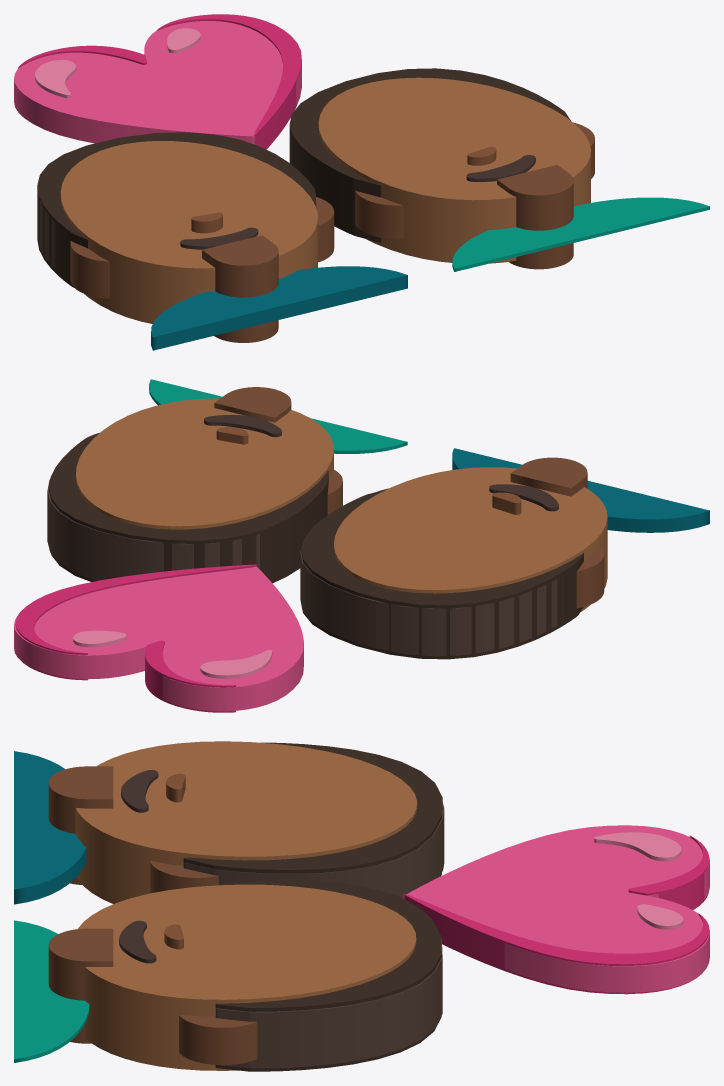
File: emoji_u1f468_1f3fe_200d_2764_200d_1f468_1f3fe.glb
3 views of the same model, one above another, from view 1: azimuth 30°, elevation 25°; view 2: azimuth 150°, elevation 25°; view 3: azimuth 270°, elevation 25° (orthographic). The views are drawn at different scales.
Visible parts, largest first — view 1: emoji_u1f468_1f3fe_200d_2764_200d_1f468_1f3fe; view 2: emoji_u1f468_1f3fe_200d_2764_200d_1f468_1f3fe; view 3: emoji_u1f468_1f3fe_200d_2764_200d_1f468_1f3fe.
Part boxes in pixels (bbox=[...]): emoji_u1f468_1f3fe_200d_2764_200d_1f468_1f3fe: bbox=[14, 14, 709, 350]; emoji_u1f468_1f3fe_200d_2764_200d_1f468_1f3fe: bbox=[14, 379, 709, 712]; emoji_u1f468_1f3fe_200d_2764_200d_1f468_1f3fe: bbox=[14, 741, 709, 1071].
Bounding box in the file's own units: 0.0347 × 0.005 × 0.0337.
